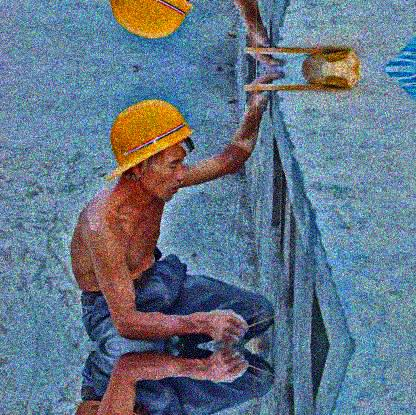helmet: (105, 100, 195, 207)
